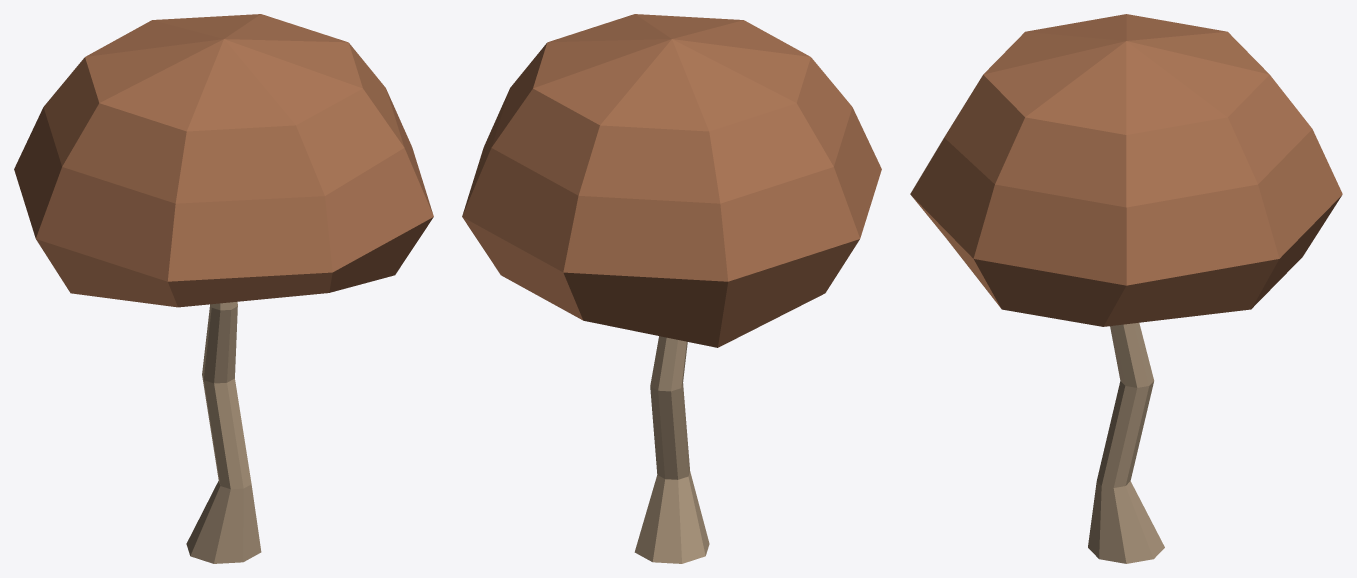
File: Mushroom_Brown.fbx
3 renders of one model, left to right at view 1: azimuth 30°, elevation 25°; view 2: azimuth 150°, elevation 25°; view 3: azimuth 270°, elevation 25°, orthographic.
Visible parts, largest first — view 1: Mushroom_Brown; view 2: Mushroom_Brown; view 3: Mushroom_Brown.
Part boxes in pixels (<box>): Mushroom_Brown: <box>14,14,433,563</box>; Mushroom_Brown: <box>462,14,881,563</box>; Mushroom_Brown: <box>910,14,1342,563</box>.
Size of the model in its own units: 383 by 495 by 383.
